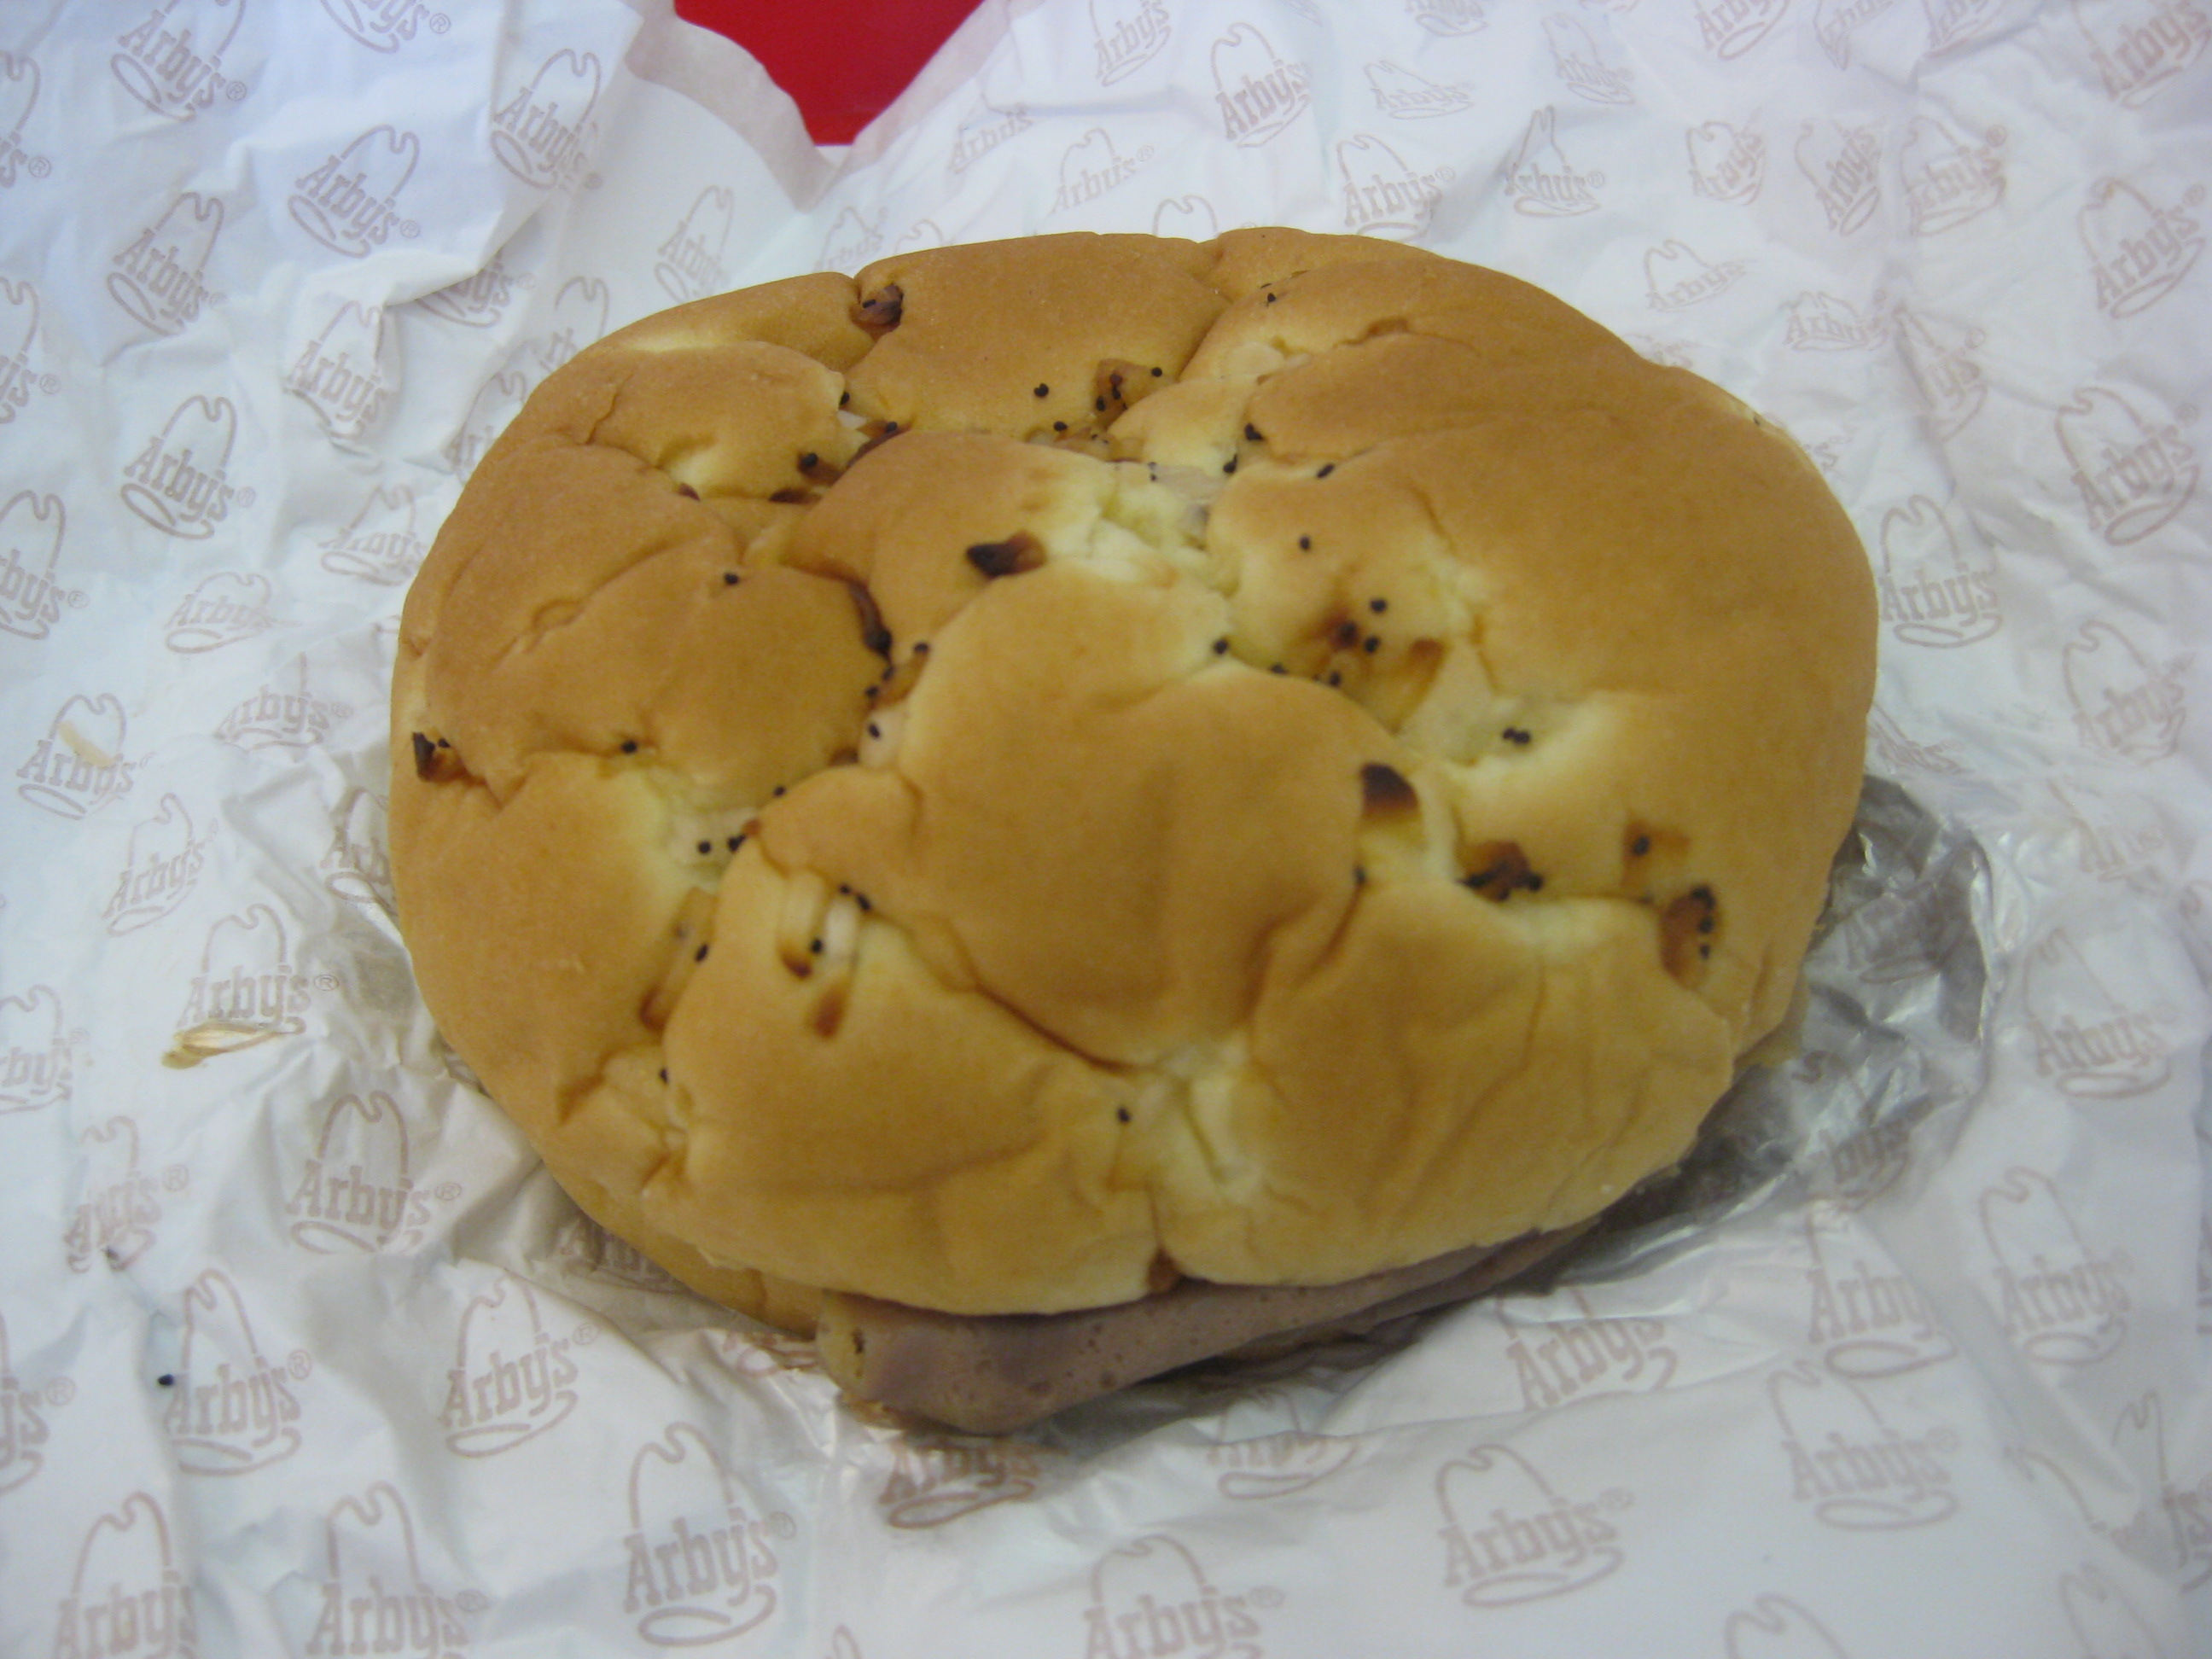burger: (370, 172, 2020, 1410)
